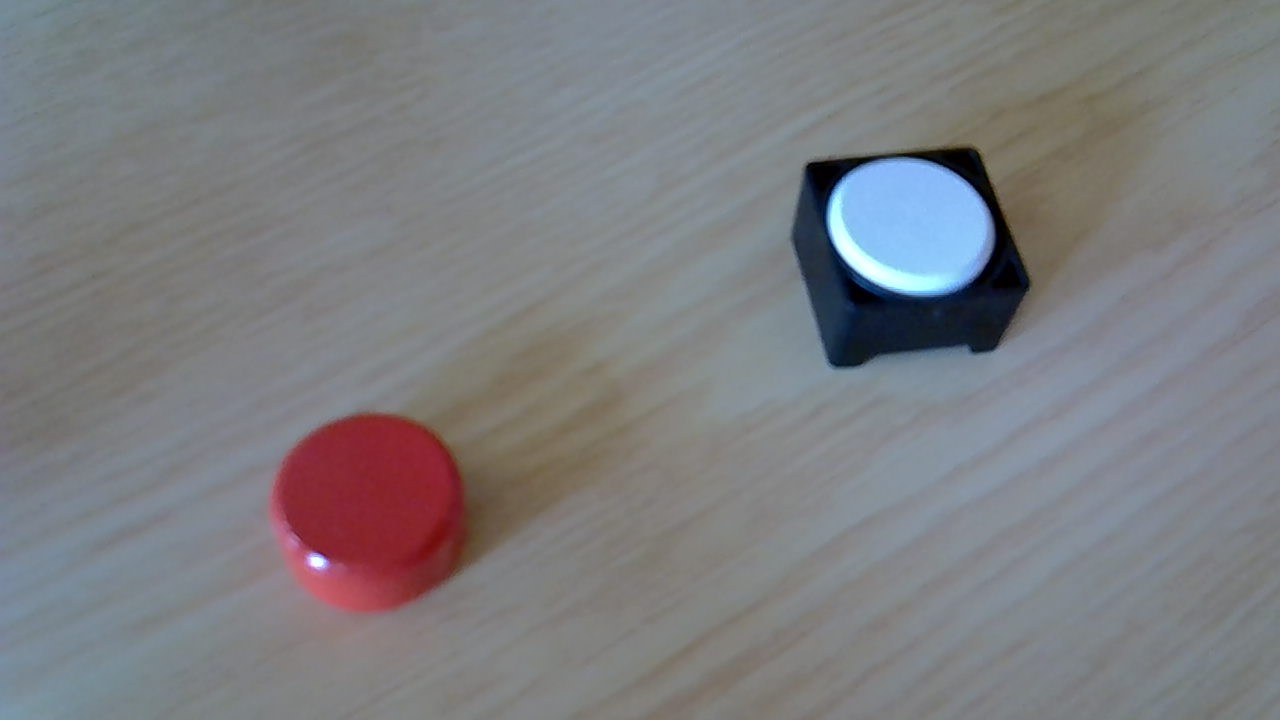Behaelter: (788, 144, 1031, 370)
WerkStueck: (266, 409, 468, 614), (824, 157, 997, 298)
